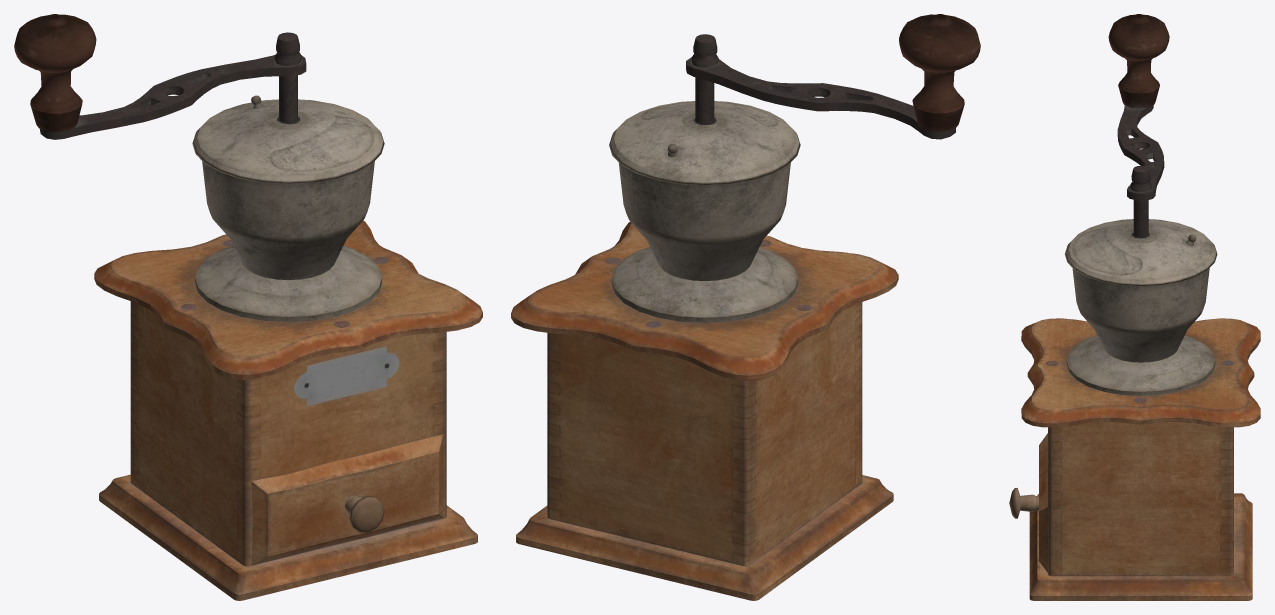
File: antique_coffee_mill.glb
3 renders of one model, left to right at view 1: azimuth 30°, elevation 25°; view 2: azimuth 150°, elevation 25°; view 3: azimuth 270°, elevation 25°, orthographic. The views are drawn at different scales.
Parts seen in each view (by area): view 1: Coffee_Mill_LOD0, Handle_LOD0; view 2: Coffee_Mill_LOD0, Handle_LOD0; view 3: Coffee_Mill_LOD0, Handle_LOD0.
Boxes of the visible parts, x1,y1,x2,y2 form: Coffee_Mill_LOD0: [94, 95, 482, 600]; Handle_LOD0: [14, 14, 306, 139]; Coffee_Mill_LOD0: [511, 101, 898, 600]; Handle_LOD0: [686, 14, 980, 139]; Coffee_Mill_LOD0: [1009, 219, 1260, 600]; Handle_LOD0: [1108, 14, 1169, 237].
Bounding box in the file's own units: 19.81 × 26.52 × 13.53.
1 material, 1 textured.
